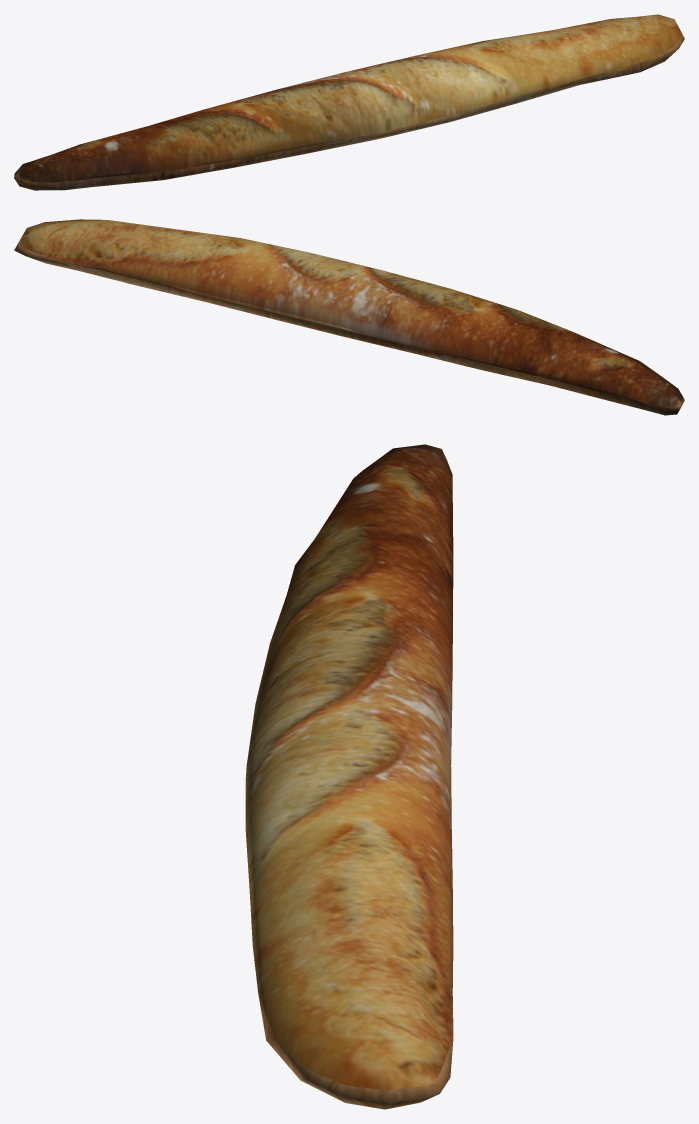
The model's file is sweethome3d-contributions-bread-295.glb.
3 renders of one model, top to bottom at view 1: azimuth 30°, elevation 25°; view 2: azimuth 150°, elevation 25°; view 3: azimuth 270°, elevation 25°, orthographic. The views are drawn at different scales.
Visible parts, largest first — view 1: dessus, dessous; view 2: dessus, dessous; view 3: dessus, dessous.
Part boxes in pixels (bbox=[...]): dessus: bbox=[14, 14, 682, 182]; dessous: bbox=[14, 34, 684, 190]; dessus: bbox=[18, 219, 684, 408]; dessous: bbox=[14, 243, 684, 415]; dessus: bbox=[245, 444, 453, 1090]; dessous: bbox=[245, 473, 453, 1109].
Bounding box in the file's own units: 54.69 × 4.07 × 7.52.
Materials: 2 (2 with a texture image).
